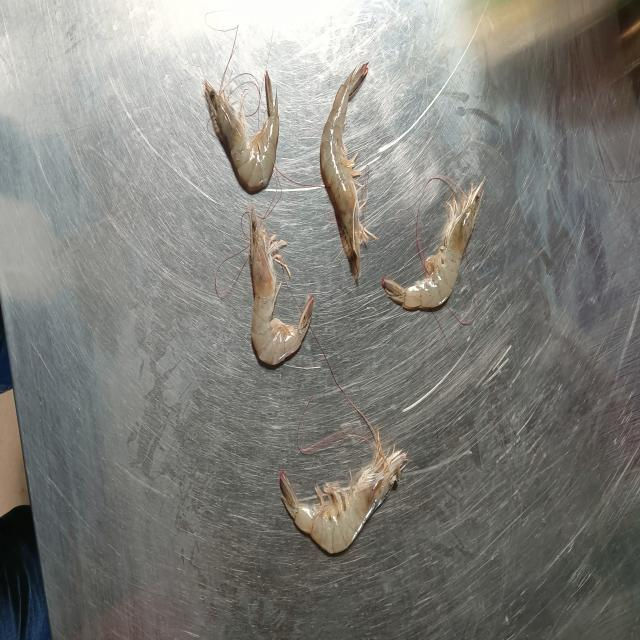shrimp: (280, 429, 406, 553), (381, 182, 484, 310), (320, 62, 378, 283), (249, 204, 314, 365), (205, 73, 279, 193)
